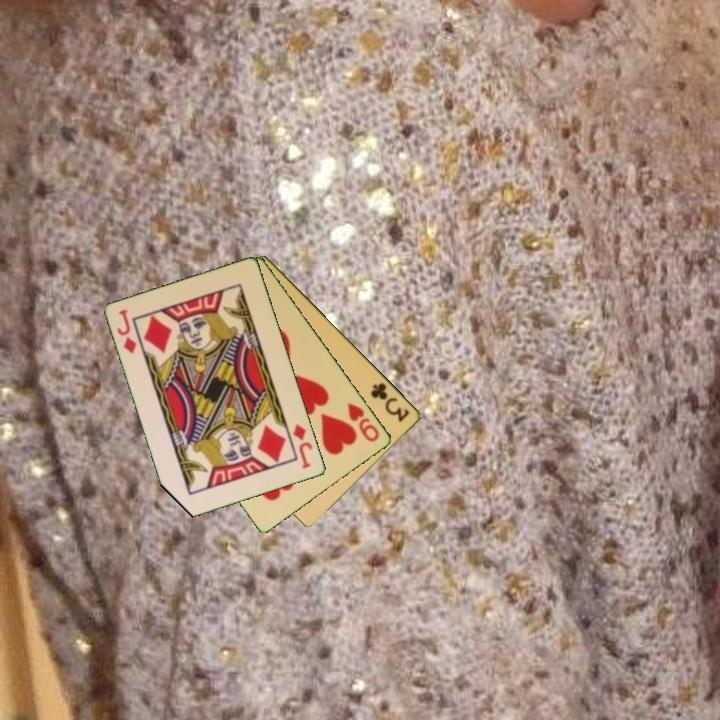3c: (367, 379, 413, 425)
9h: (344, 399, 383, 445)
Jd: (113, 306, 140, 357), (290, 420, 316, 472)
